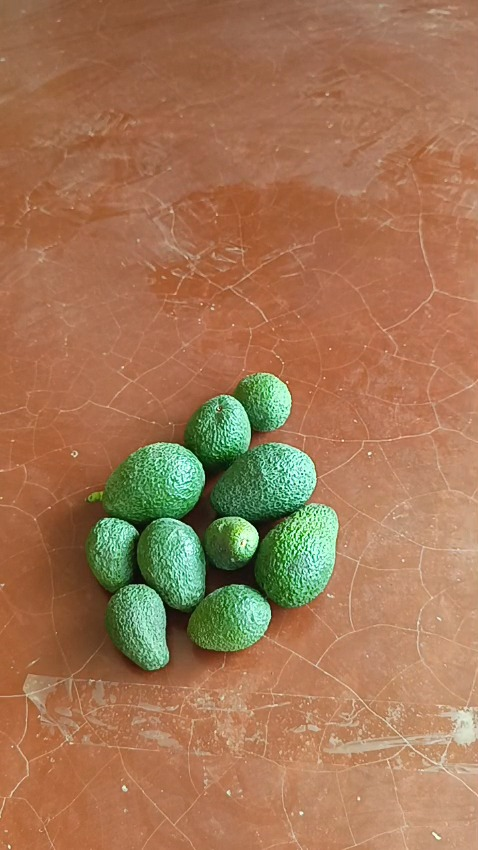Primera: (94, 442, 205, 524), (253, 504, 338, 607), (210, 442, 316, 522)
Segunda: (136, 516, 208, 610)
Tercera: (104, 582, 171, 669), (187, 584, 271, 652), (182, 394, 252, 470), (84, 516, 141, 594), (233, 373, 291, 431), (201, 514, 259, 571)
